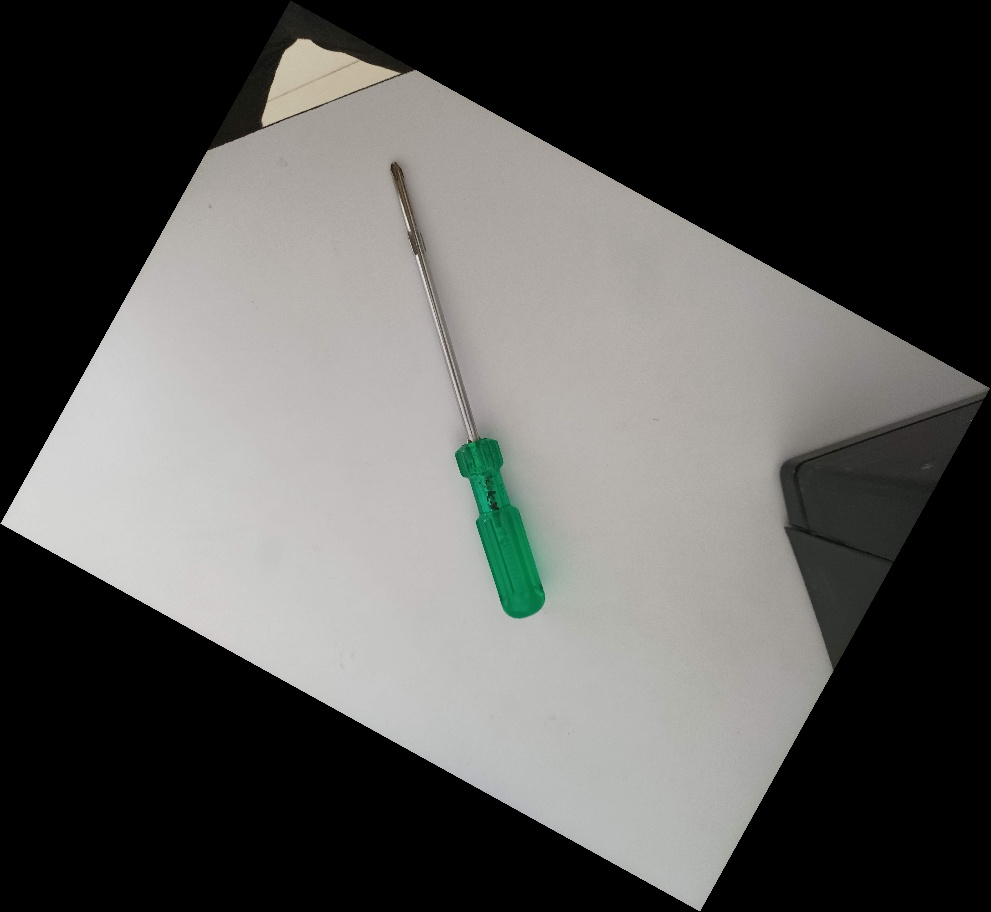screwdriver: (384, 153, 549, 621)
